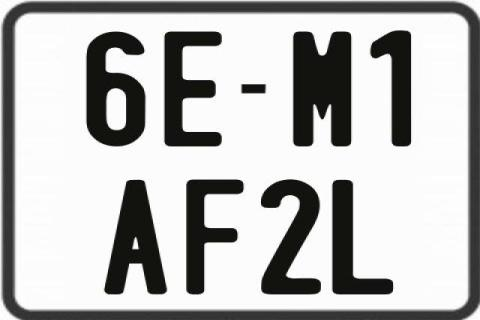0: (86, 30, 151, 148), (258, 180, 319, 296), (369, 28, 410, 146)
A: (101, 178, 166, 294)
E: (163, 29, 227, 145)
F: (186, 178, 246, 298)
L: (329, 178, 394, 294)
M: (291, 29, 349, 147)
